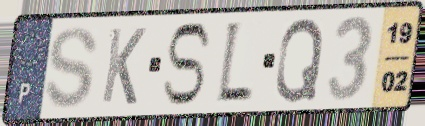3: (326, 13, 377, 104)
K: (99, 25, 149, 107)
L: (214, 18, 256, 108)
Q: (273, 15, 327, 105)
S: (43, 25, 101, 112), (159, 20, 214, 108)
